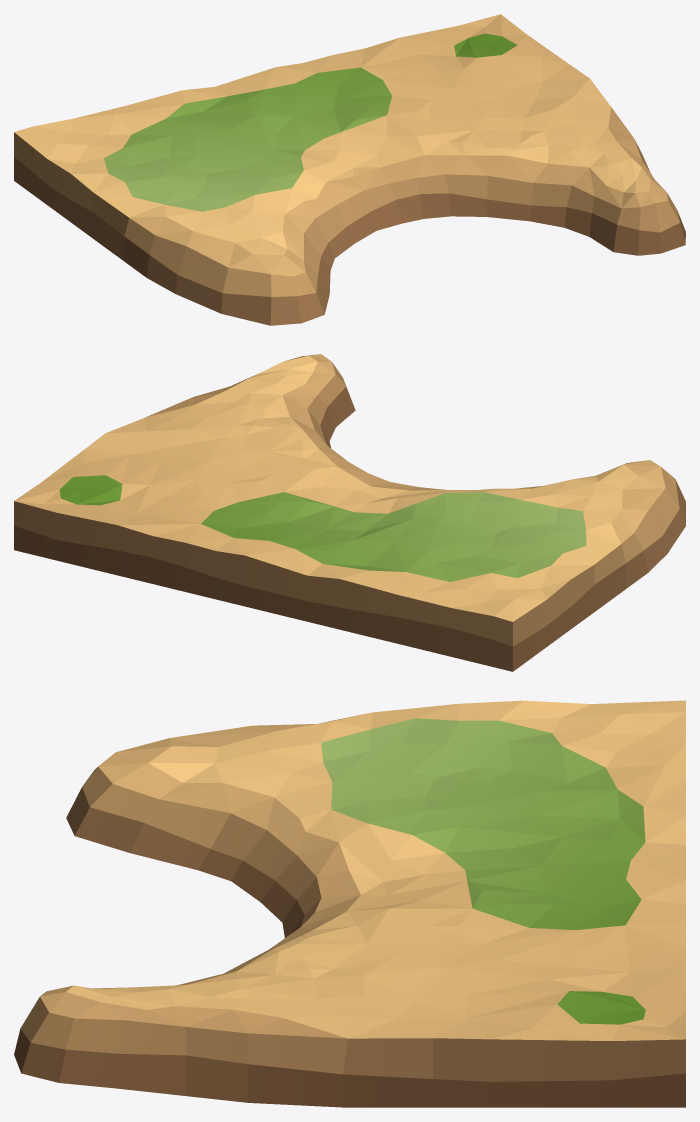
Rendered from land-secret-island.glb.
The picture shows the model from 3 angles, top to bottom: view 1: azimuth 30°, elevation 25°; view 2: azimuth 150°, elevation 25°; view 3: azimuth 270°, elevation 25°; orthographic projection. The views are drawn at different scales.
Visible parts, largest first — view 1: land secret Island; view 2: land secret Island; view 3: land secret Island.
Part boxes in pixels (x1,y1,x2,y2): land secret Island: (14,14,685,325); land secret Island: (14,354,685,671); land secret Island: (14,700,685,1107).
Bounding box in the file's own units: 45 × 4.5 × 37.83.
Materials: 1 (1 with a texture image).
